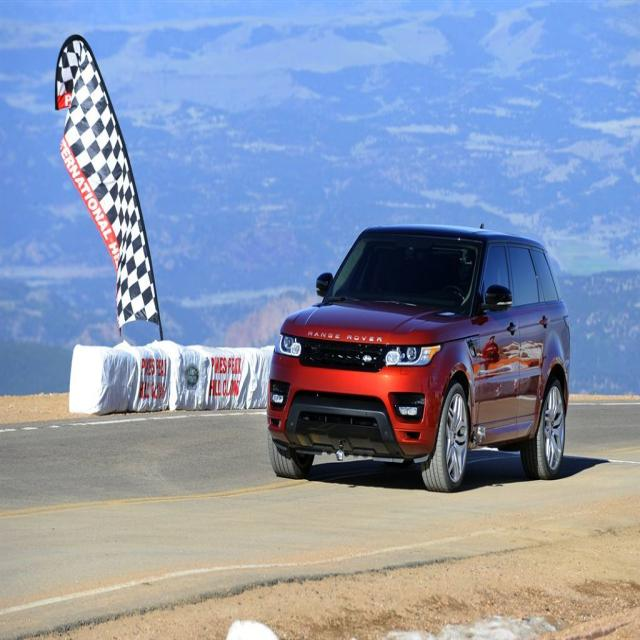car: (258, 218, 574, 489)
